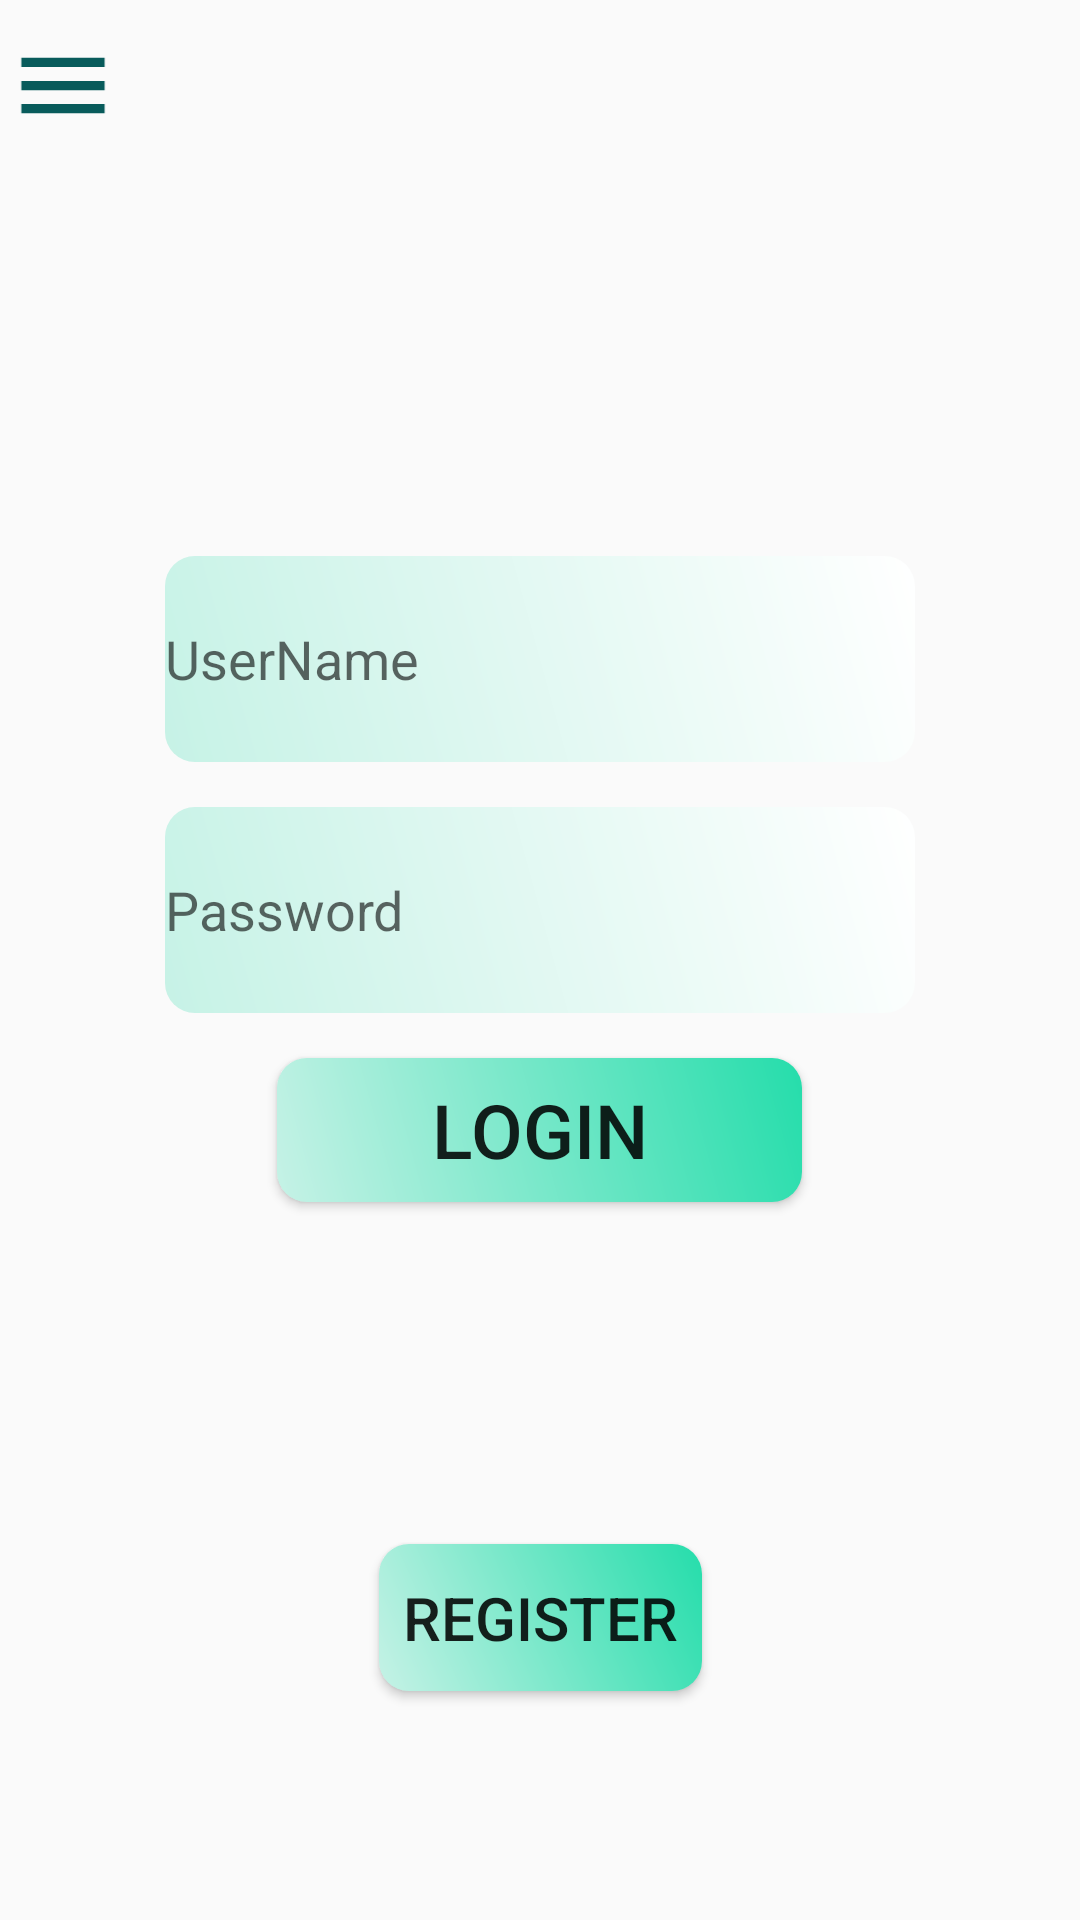

Screen size 1080px×1920px. Icon name, then its center in pixels as [x,y]:
menu: [63,85]
